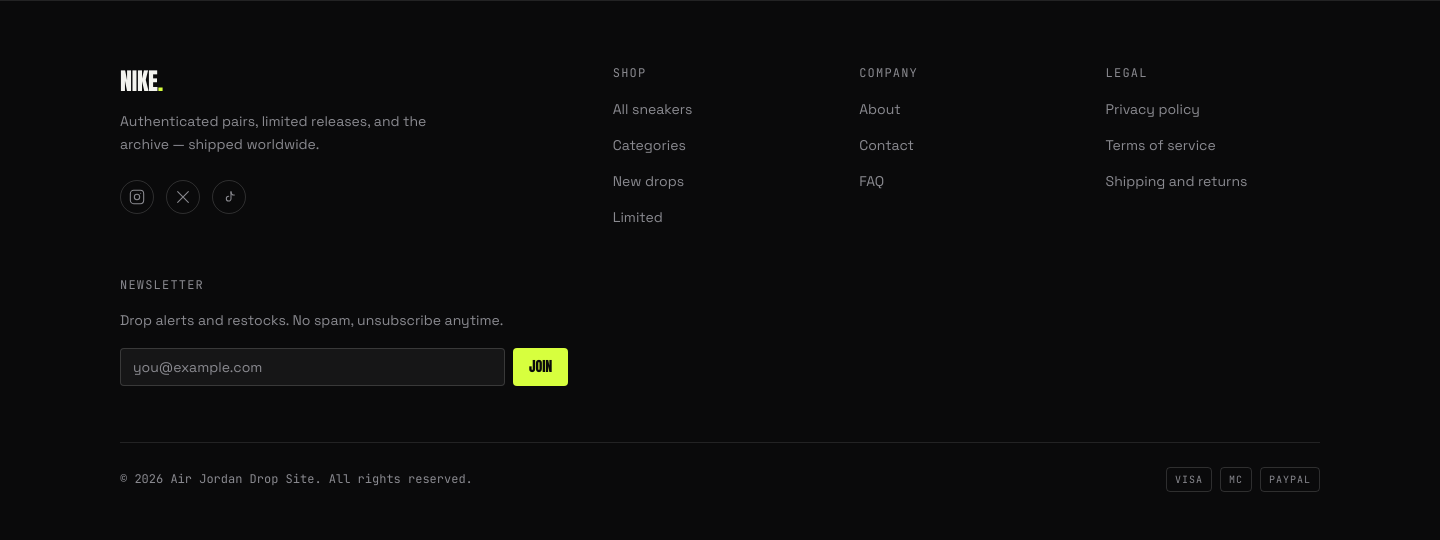
newsletter form — errors › names the offending field from a Zod validation response
The image size is (1440, 540).
Type "bad@example.com" into the field named "Email address" at (313, 367), box [120,348,505,386]
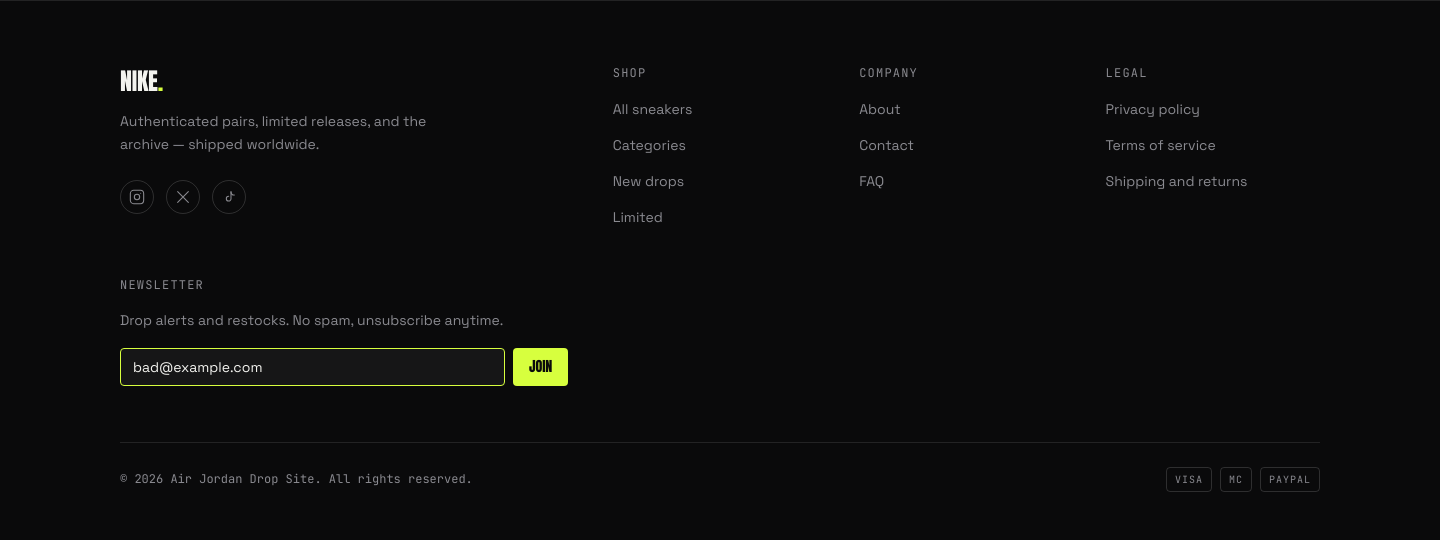
Click the button "Join" at (541, 367), box [513,348,568,386]
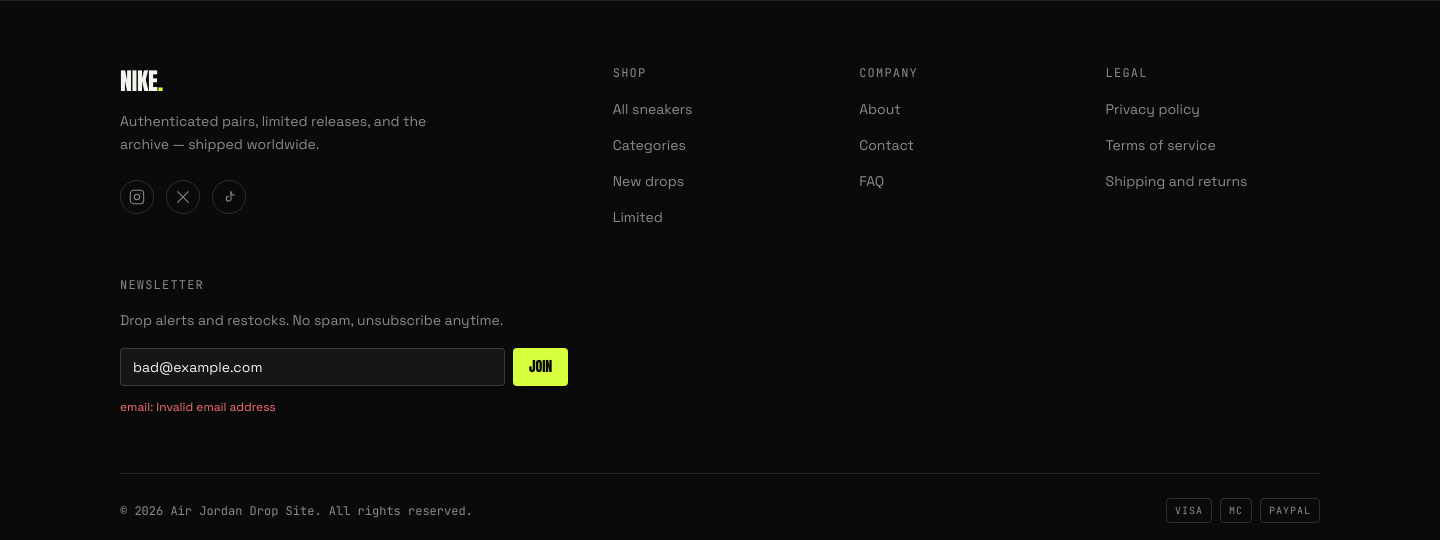
Expected: the message reads "email: Invalid email address", [120,399,276,415]
